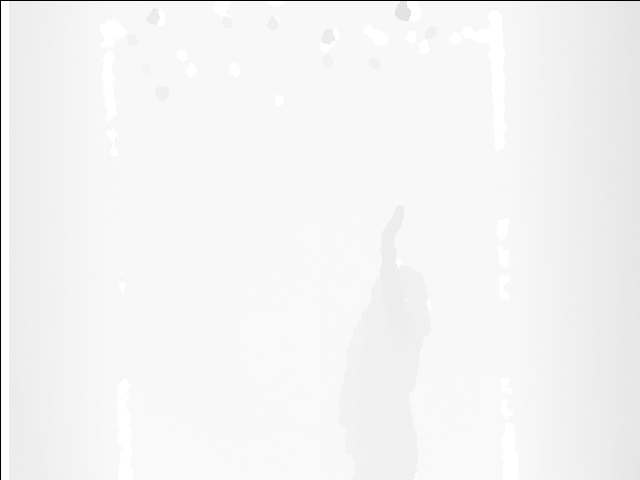hand: (382, 202, 407, 247)
